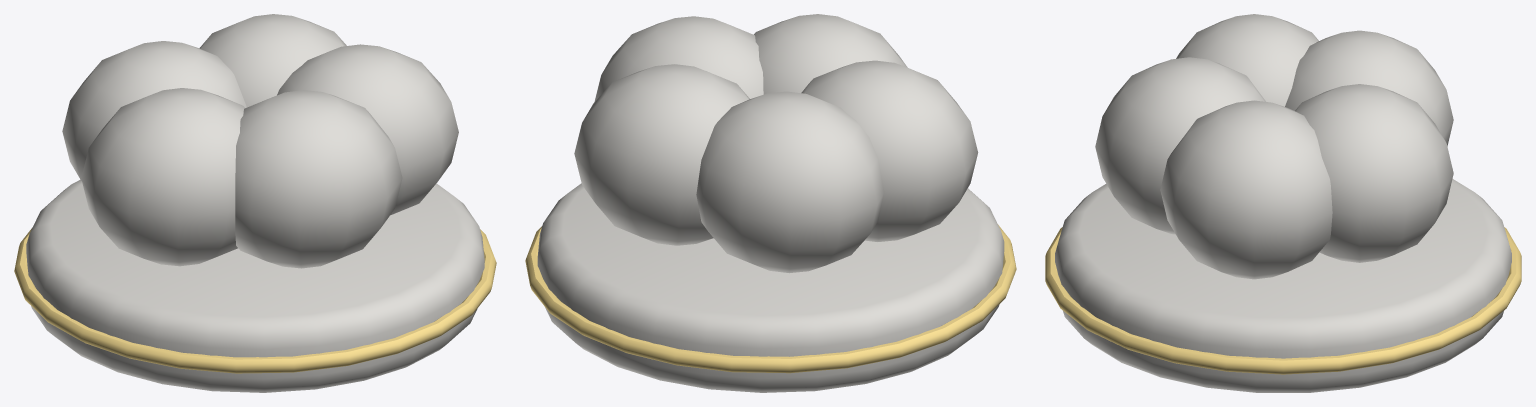
File: Acc_Chef.fbx
3 views of the same model, side by side, from view 1: azimuth 30°, elevation 25°; view 2: azimuth 150°, elevation 25°; view 3: azimuth 270°, elevation 25° (orthographic). The views are drawn at different scales.
Parts seen in each view (by area): view 1: Chef_Hat_Band, Chef_Hat_Puff, Chef_Hat_Puff.001, Chef_Hat_Puff.004, Chef_Hat_Puff.002, Chef_Hat_Line, Chef_Hat_Puff.003; view 2: Chef_Hat_Band, Chef_Hat_Puff.002, Chef_Hat_Puff.003, Chef_Hat_Puff.001, Chef_Hat_Line, Chef_Hat_Puff.004, Chef_Hat_Puff; view 3: Chef_Hat_Band, Chef_Hat_Puff.004, Chef_Hat_Puff.003, Chef_Hat_Puff, Chef_Hat_Line, Chef_Hat_Puff.002, Chef_Hat_Puff.001.
Boxes of the visible parts, left/top/right/bottom form: Chef_Hat_Band: left=26, top=179, right=484, bottom=392; Chef_Hat_Puff: left=235, top=90, right=402, bottom=268; Chef_Hat_Puff.001: left=81, top=88, right=244, bottom=266; Chef_Hat_Puff.004: left=277, top=44, right=458, bottom=215; Chef_Hat_Puff.002: left=62, top=41, right=246, bottom=180; Chef_Hat_Line: left=14, top=228, right=496, bottom=373; Chef_Hat_Puff.003: left=199, top=14, right=346, bottom=107; Chef_Hat_Band: left=537, top=183, right=1004, bottom=392; Chef_Hat_Puff.002: left=696, top=91, right=884, bottom=273; Chef_Hat_Puff.003: left=574, top=64, right=749, bottom=245; Chef_Hat_Puff.001: left=801, top=60, right=978, bottom=241; Chef_Hat_Line: left=525, top=224, right=1016, bottom=373; Chef_Hat_Puff.004: left=594, top=16, right=763, bottom=101; Chef_Hat_Puff: left=754, top=14, right=907, bottom=94; Chef_Hat_Band: left=1055, top=178, right=1511, bottom=392; Chef_Hat_Puff.004: left=1160, top=100, right=1332, bottom=279; Chef_Hat_Puff.003: left=1295, top=84, right=1453, bottom=262; Chef_Hat_Puff: left=1095, top=57, right=1265, bottom=234; Chef_Hat_Line: left=1045, top=227, right=1521, bottom=374; Chef_Hat_Puff.002: left=1285, top=30, right=1453, bottom=146; Chef_Hat_Puff.001: left=1176, top=14, right=1318, bottom=106.
Bounding box in the file's own units: 71.4 × 39 × 70.88.
